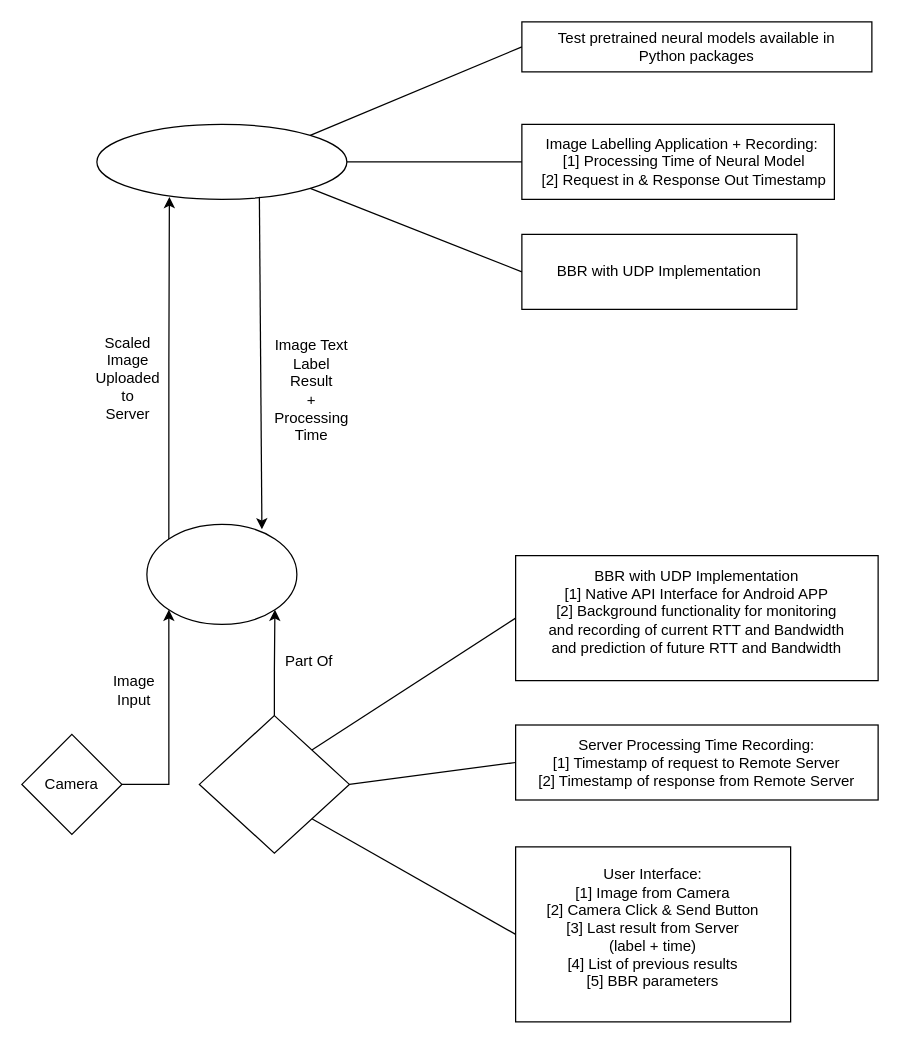
The diagram is 900 pixels wide and 1044 high, and some of its shapes have lost their labels. Each missing label, with the centre of its shape:
"Android App" goes at pixel 273 783.
"Edge Client Google Pixel 6 Phone" goes at pixel 221 573.
"Remote Cloud Server or Edge Server" goes at pixel 221 161.
